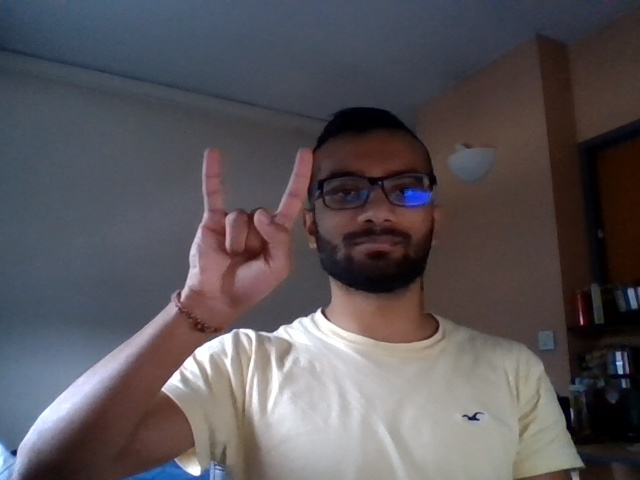I Love You: (171, 134, 318, 316)
